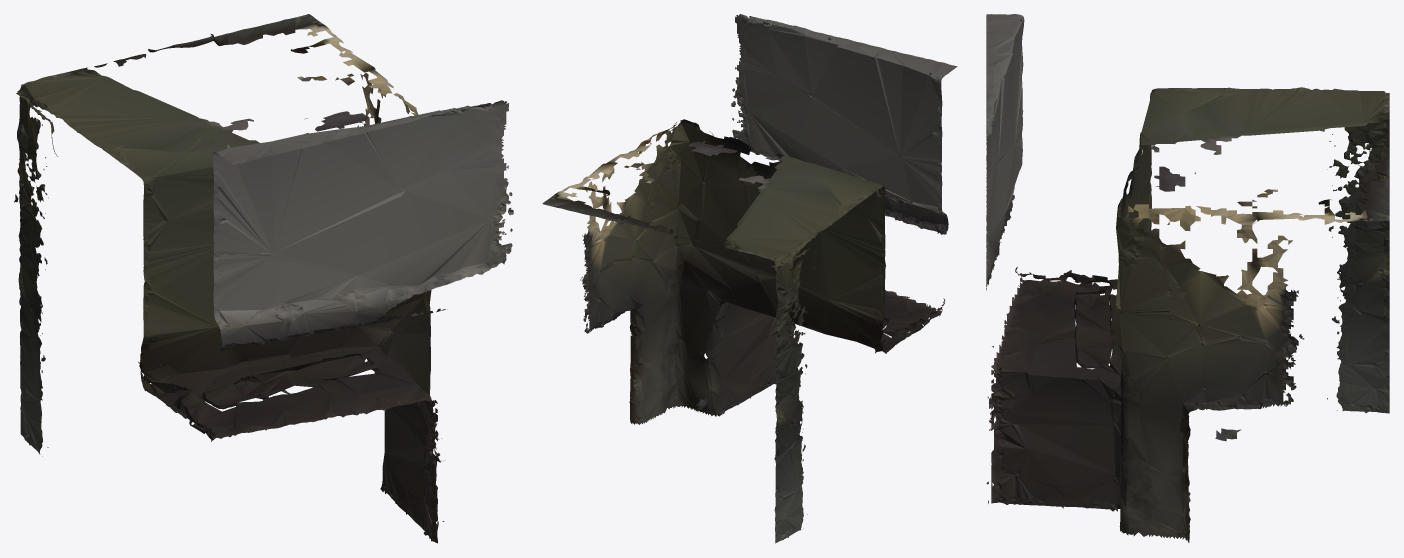
The model's file is coarse.glb.
3 renders of one model, left to right at view 1: azimuth 30°, elevation 25°; view 2: azimuth 150°, elevation 25°; view 3: azimuth 270°, elevation 25°, orthographic. The views are drawn at different scales.
Size of the model in its own units: 1.07 by 1.53 by 1.38.
